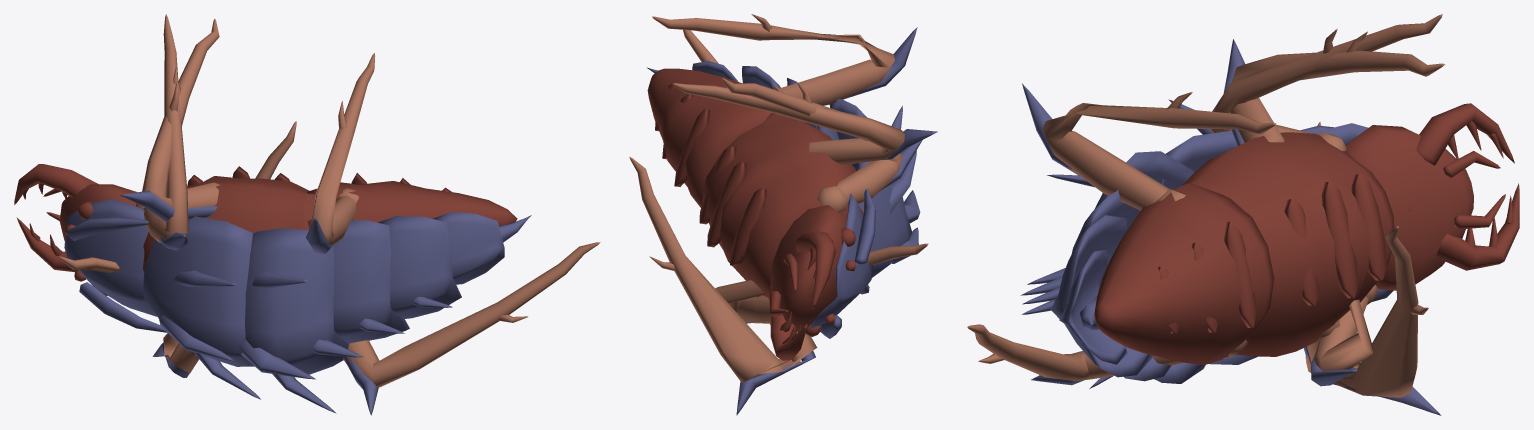
The model's file is big-biter-corpse-1.glb.
3 renders of one model, left to right at view 1: azimuth 30°, elevation 25°; view 2: azimuth 150°, elevation 25°; view 3: azimuth 270°, elevation 25°, orthographic. The views are drawn at different scales.
Parts seen in each view (by area): view 1: body; view 2: body; view 3: body.
Boxes of the visible parts, x1,y1,x2,y2 form: body: (14, 14, 600, 415); body: (629, 14, 937, 415); body: (967, 14, 1519, 415).
Bounding box in the file's own units: 3.06 × 2.5 × 3.05.
